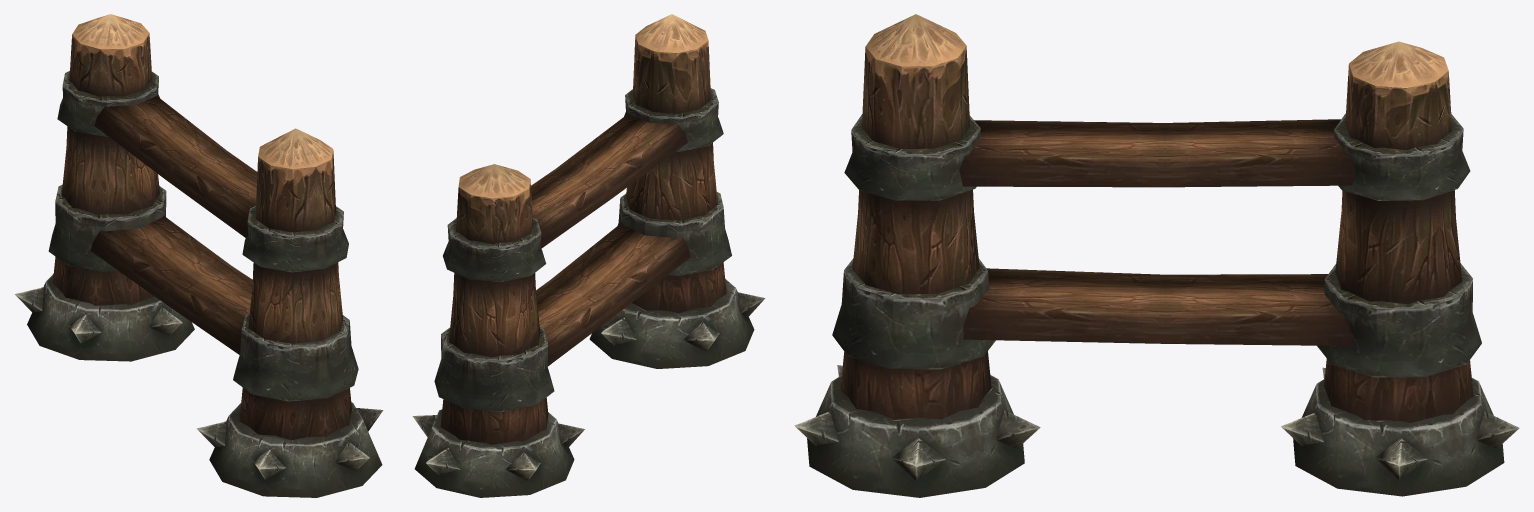
The picture shows the model from 3 angles, left to right: view 1: azimuth 30°, elevation 25°; view 2: azimuth 150°, elevation 25°; view 3: azimuth 270°, elevation 25°; orthographic projection. The views are drawn at different scales.
Size of the model in its own units: 1.84 by 3.6 by 5.44.
Materials: 2 (2 with a texture image).
